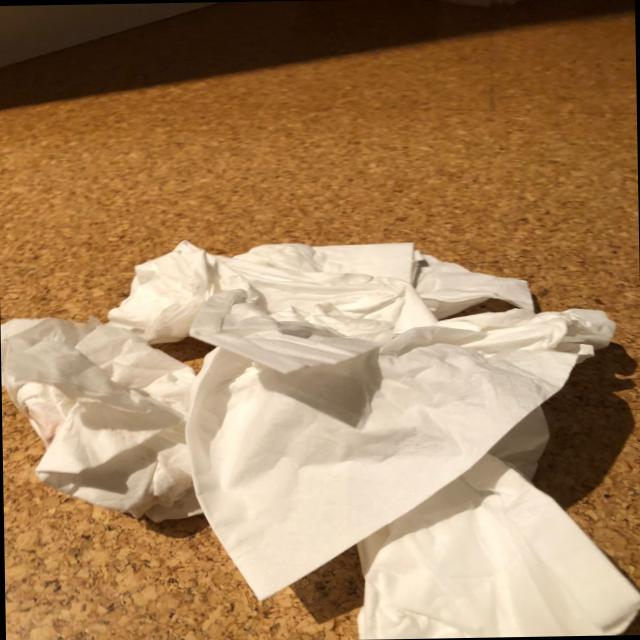organic waste: (183, 302, 624, 604), (304, 445, 640, 640), (100, 230, 538, 342), (0, 309, 209, 529)
